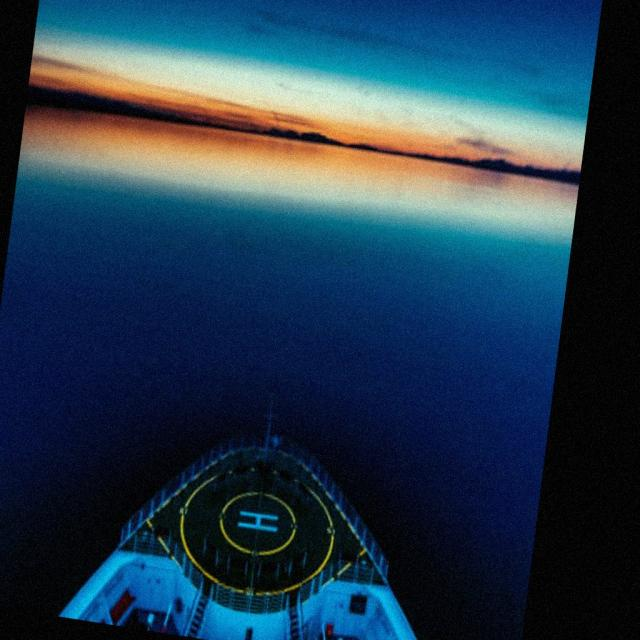helipad: (215, 488, 298, 557)
